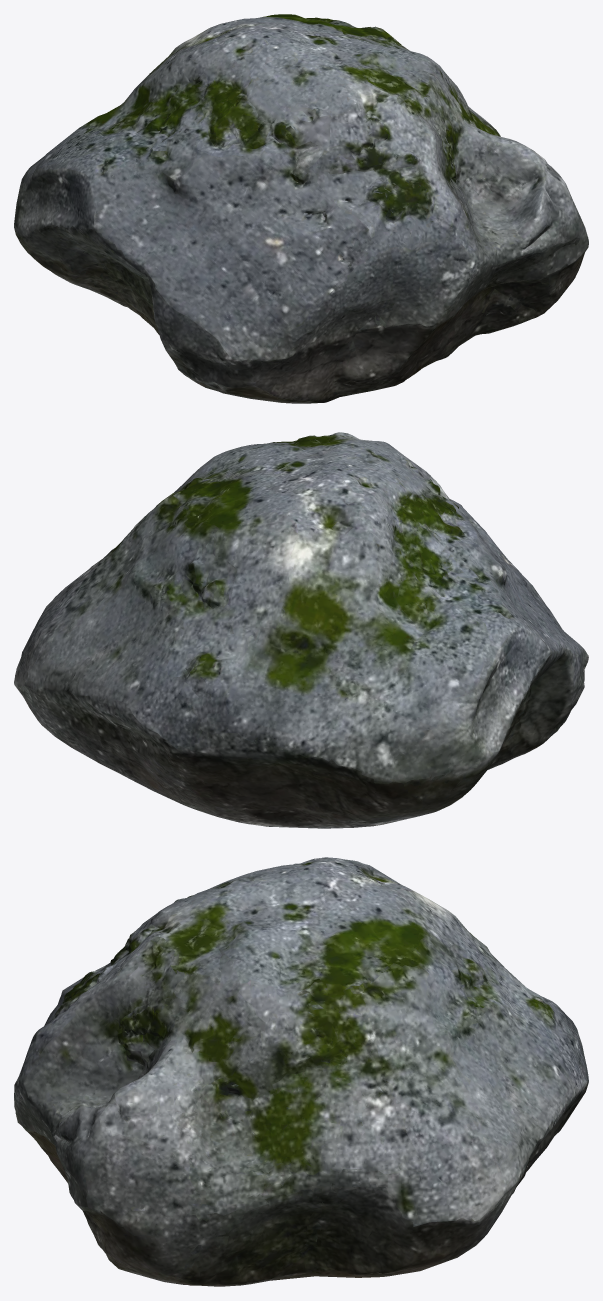
The model's file is wet-moss-v6-lod.glb.
The picture shows the model from 3 angles, top to bottom: view 1: azimuth 30°, elevation 25°; view 2: azimuth 150°, elevation 25°; view 3: azimuth 270°, elevation 25°; orthographic projection. The views are drawn at different scales.
Visible parts, largest first — view 1: geometry_0; view 2: geometry_0; view 3: geometry_0.
Boxes of the visible parts, x1,y1,x2,y2 form: geometry_0: (14, 14, 588, 403); geometry_0: (14, 432, 588, 828); geometry_0: (14, 857, 588, 1286).
Bounding box in the file's own units: 0.45 × 0.3021 × 0.4511.
1 material, 1 textured.
